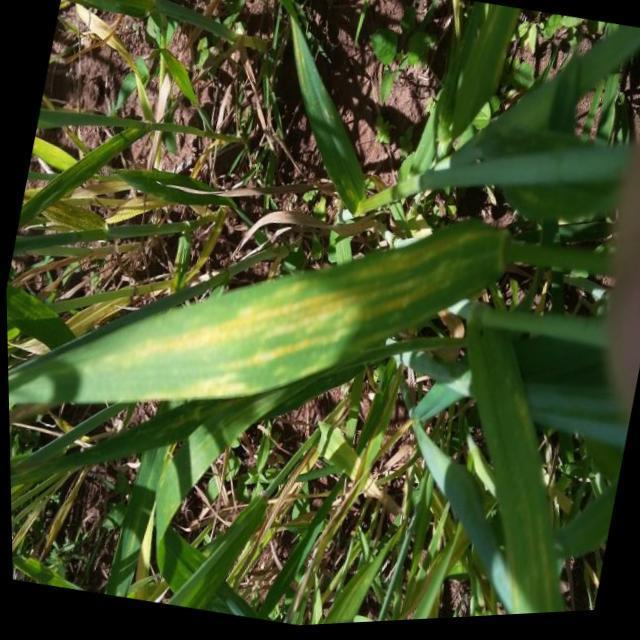Yellow Rust: (5, 223, 517, 413)
